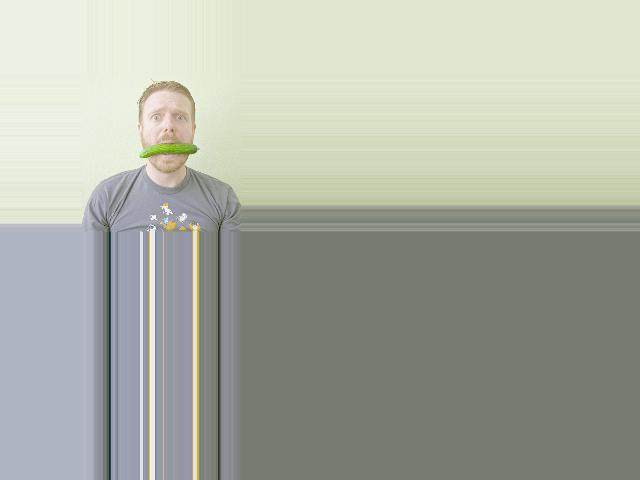cucumber: (138, 143, 199, 158)
